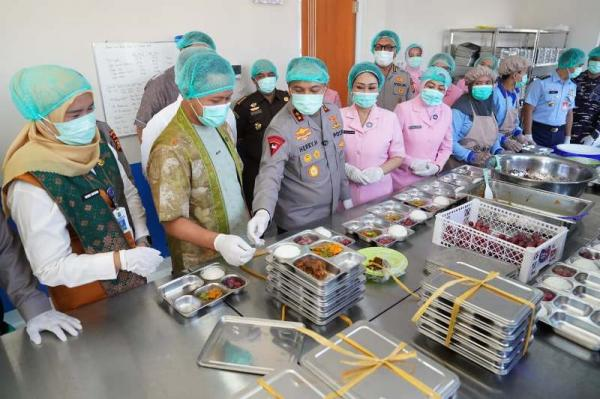cap: (160, 45, 255, 103), (46, 60, 103, 121), (269, 45, 338, 93), (349, 14, 410, 51), (334, 49, 389, 89), (544, 30, 588, 74), (406, 58, 459, 90), (241, 51, 278, 77)
